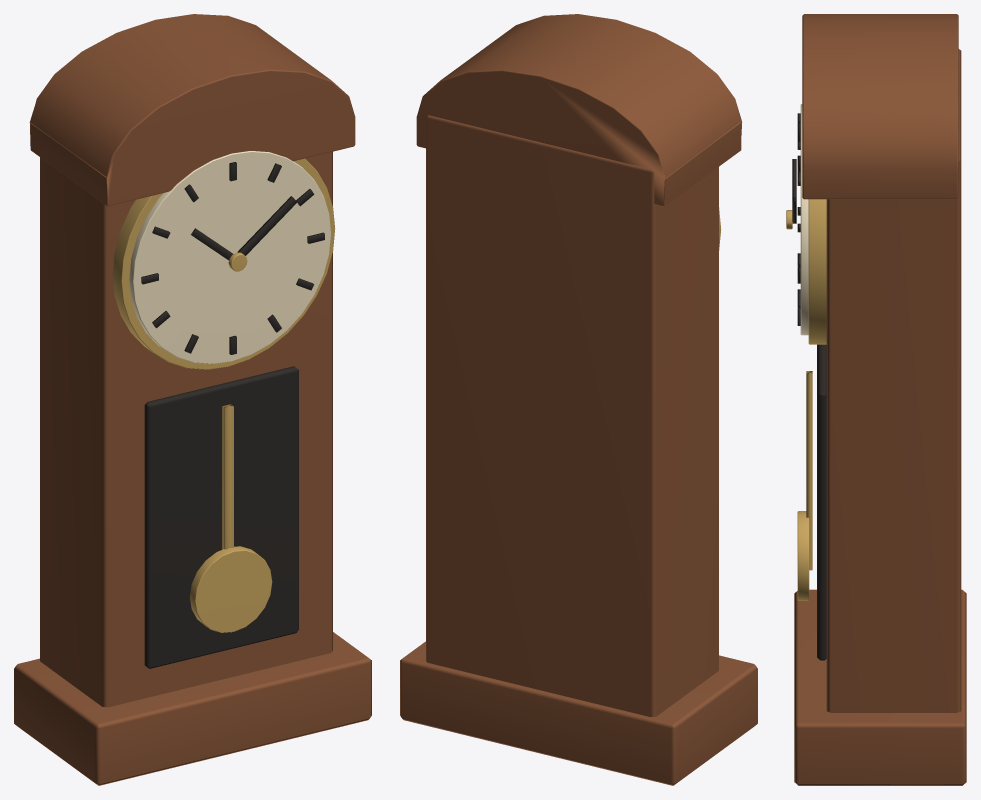
The model's file is S096_giant_clock_simple.glb.
3 renders of one model, left to right at view 1: azimuth 30°, elevation 25°; view 2: azimuth 150°, elevation 25°; view 3: azimuth 270°, elevation 25°, orthographic.
Parts seen in each view (by area): view 1: Clock_plain_walnut_paint, Clock_dial_ink_and_recess, Clock_ivory_dial, Clock_simple_brass; view 2: Clock_plain_walnut_paint; view 3: Clock_plain_walnut_paint, Clock_simple_brass, Clock_dial_ink_and_recess, Clock_ivory_dial.
Part boxes in pixels (bbox=[...]): Clock_plain_walnut_paint: bbox=[14, 14, 371, 785]; Clock_dial_ink_and_recess: bbox=[141, 162, 324, 668]; Clock_ivory_dial: bbox=[129, 151, 331, 363]; Clock_simple_brass: bbox=[112, 158, 335, 632]; Clock_plain_walnut_paint: bbox=[400, 14, 757, 785]; Clock_plain_walnut_paint: bbox=[794, 14, 966, 785]; Clock_simple_brass: bbox=[786, 199, 826, 600]; Clock_dial_ink_and_recess: bbox=[792, 113, 826, 660]; Clock_ivory_dial: bbox=[800, 104, 808, 335].
Size of the model in its own units: 0.6 by 1.4 by 0.335.
